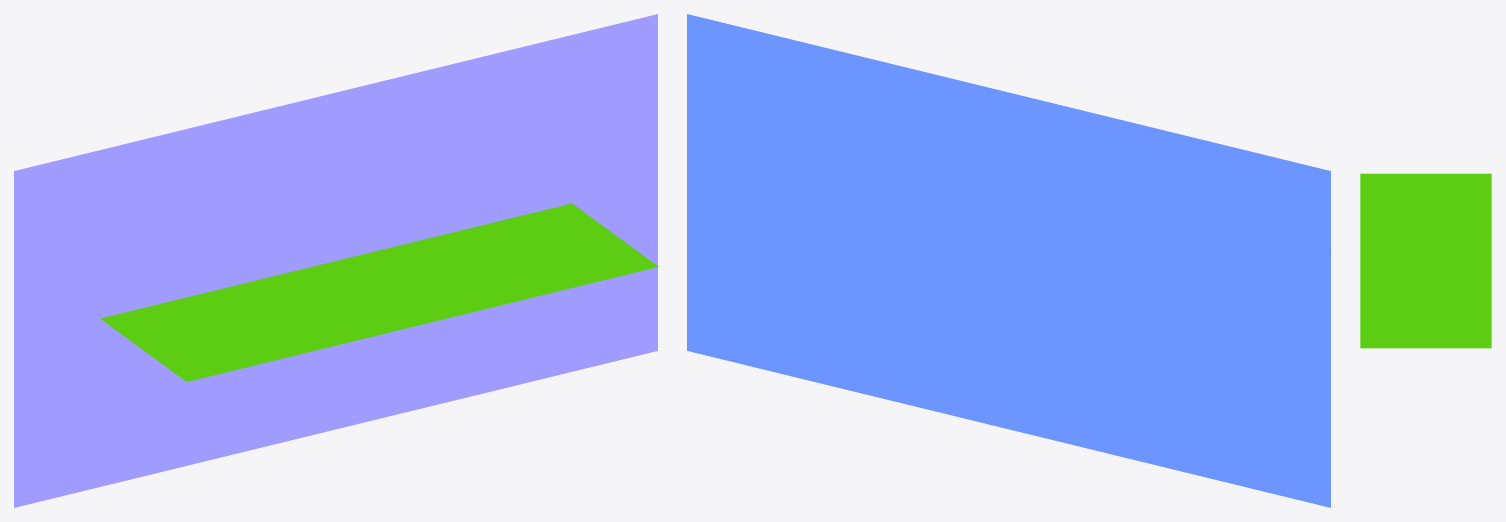
3 views of the same model, side by side, from view 1: azimuth 30°, elevation 25°; view 2: azimuth 150°, elevation 25°; view 3: azimuth 270°, elevation 25° (orthographic). The views are drawn at different scales.
Parts seen in each view (by area): view 1: stage_backdrop, stage_floor; view 2: stage_backdrop; view 3: stage_floor.
Boxes of the visible parts, x1,y1,x2,y2 form: stage_backdrop: [14, 14, 657, 507]; stage_floor: [100, 203, 658, 381]; stage_backdrop: [687, 14, 1330, 507]; stage_floor: [1360, 173, 1491, 348].
Bounding box in the file's own units: 30 × 15 × 7.
